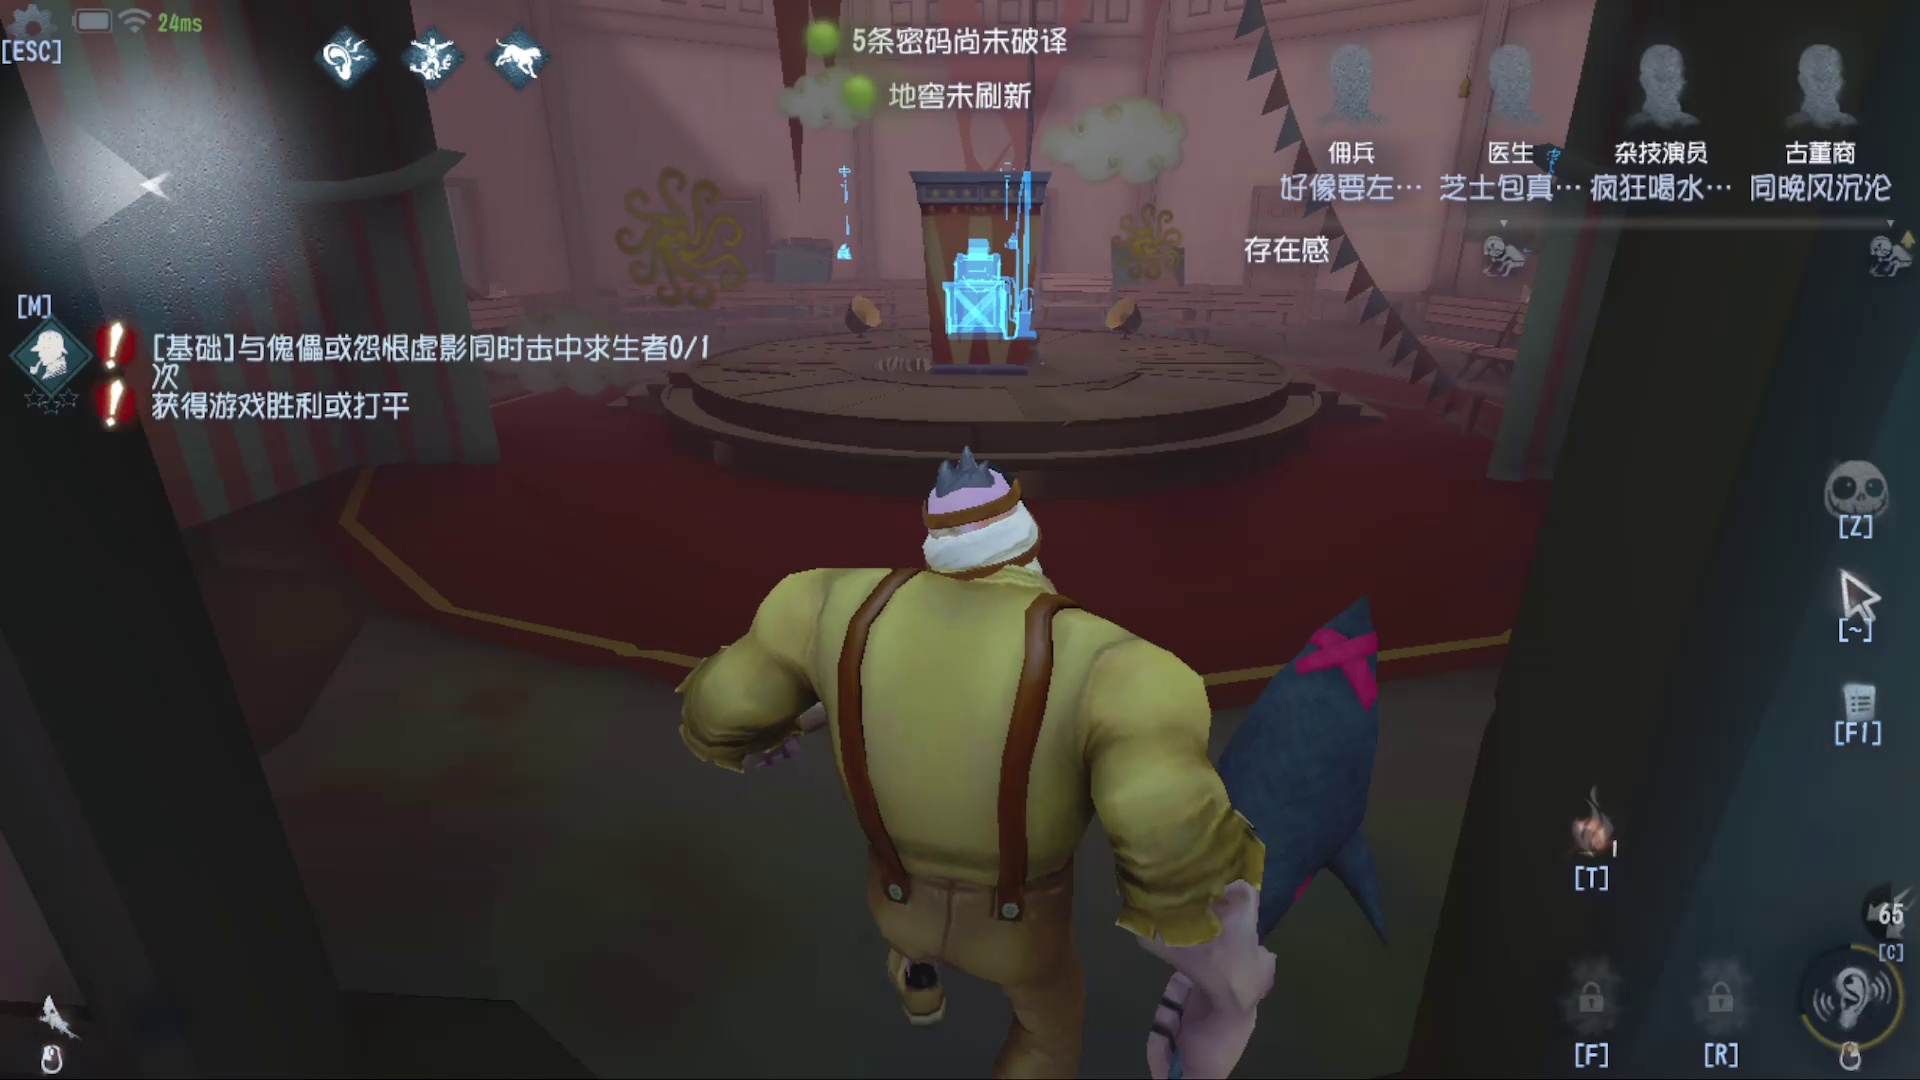密码机: (945, 69, 1060, 336), (837, 153, 858, 272)
木板: (1104, 233, 1193, 345), (761, 225, 843, 334)
